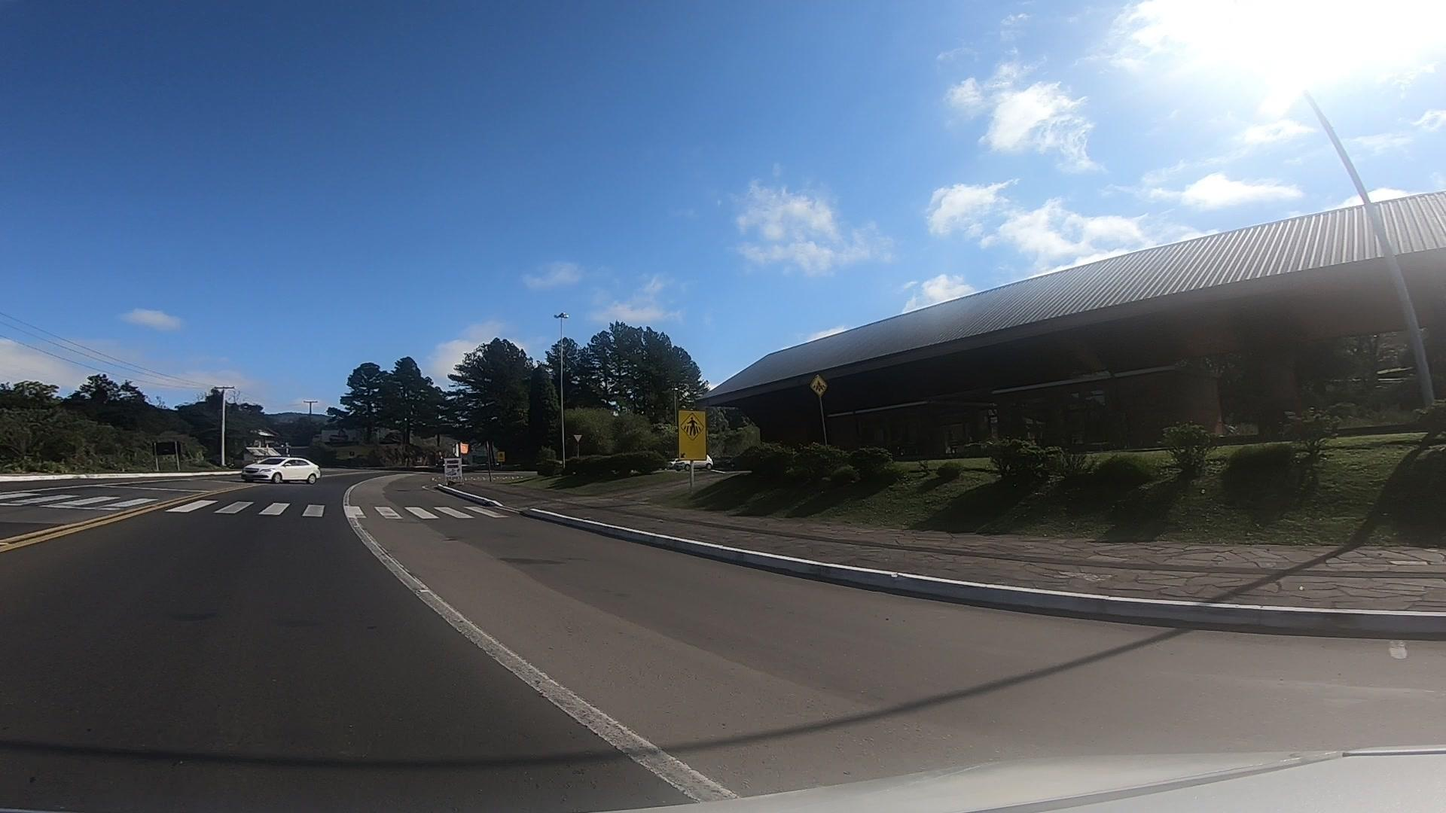A-32b: (681, 415, 705, 443)
